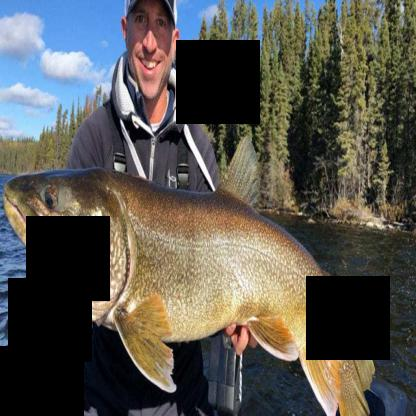fish: (0, 168, 377, 416)
